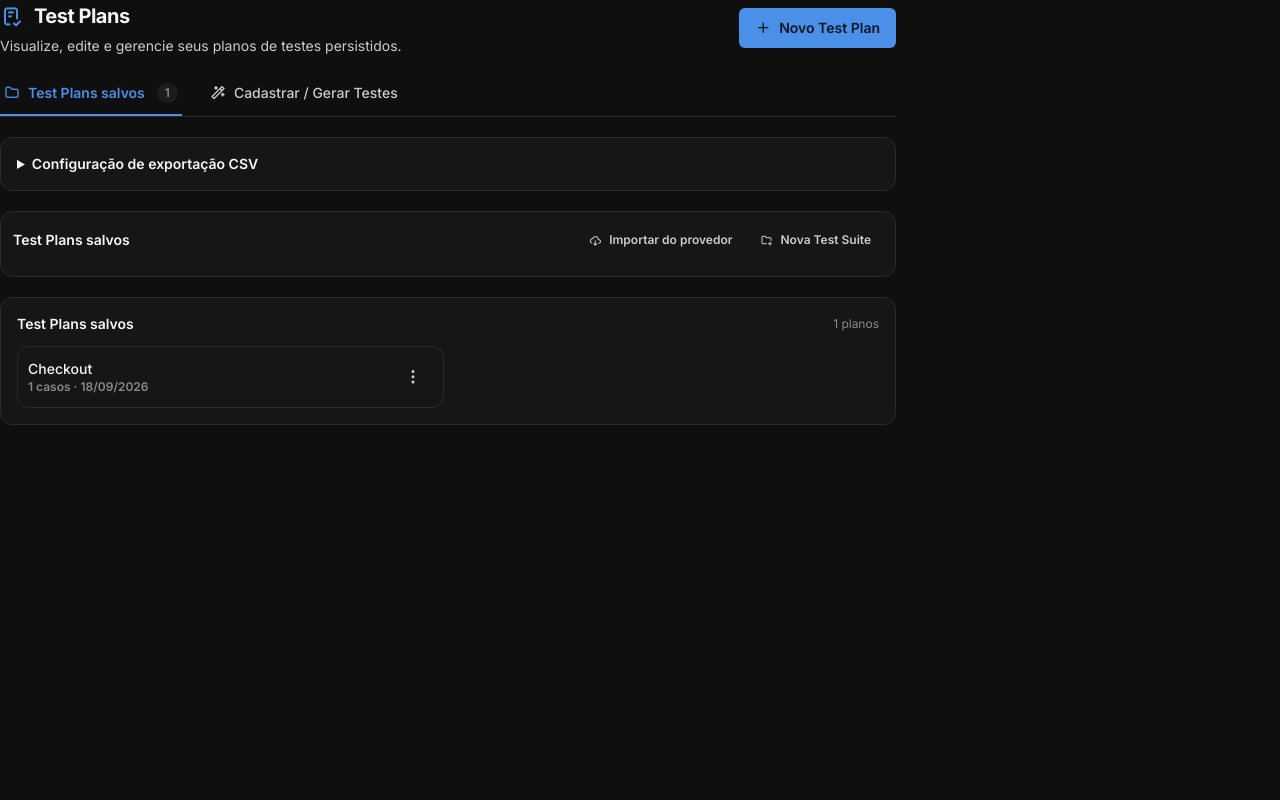
Scenario: TestPlansView case editing › adds a case and opens it for editing
The image size is (1280, 800).
Click the button with aria-label "Abrir Test Plan Checkout" at (60, 368), box left=28, top=359, right=393, bottom=395
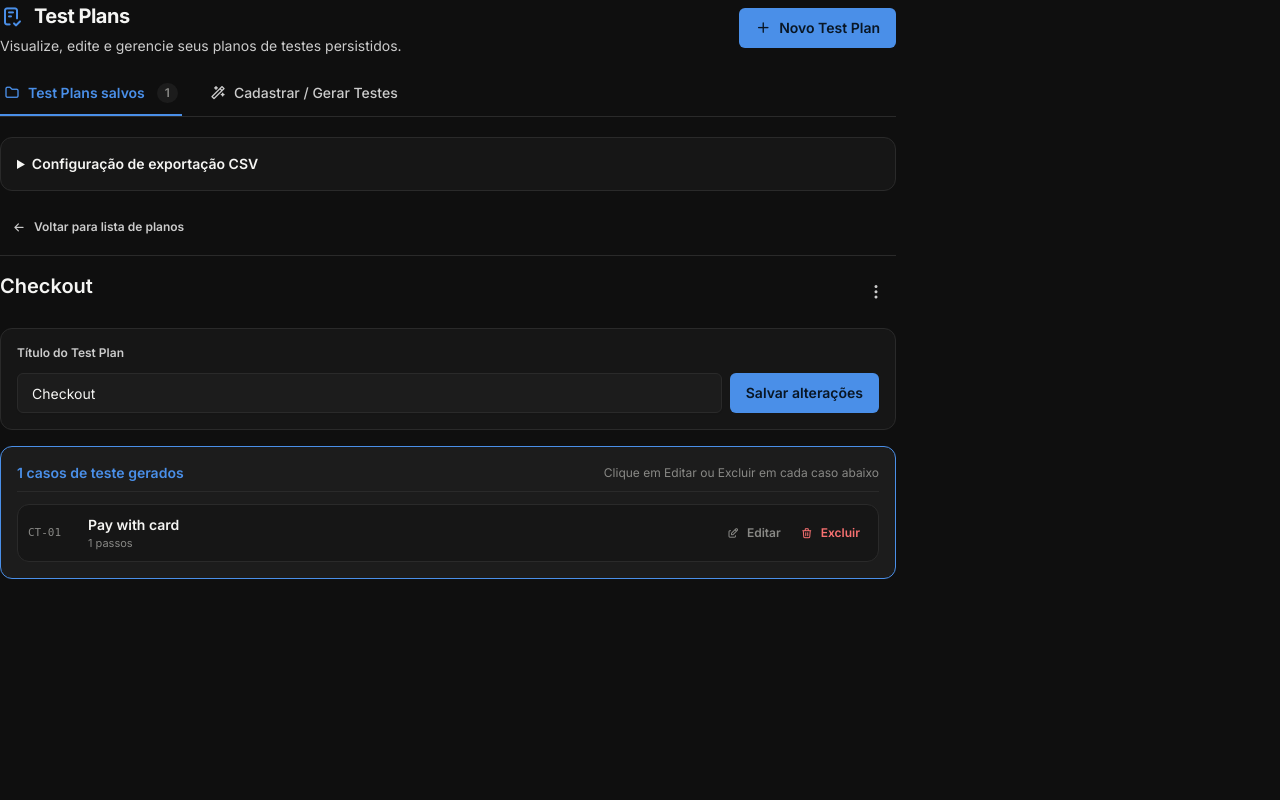
Click the button named "Ações" at (876, 292), box left=856, top=272, right=896, bottom=312
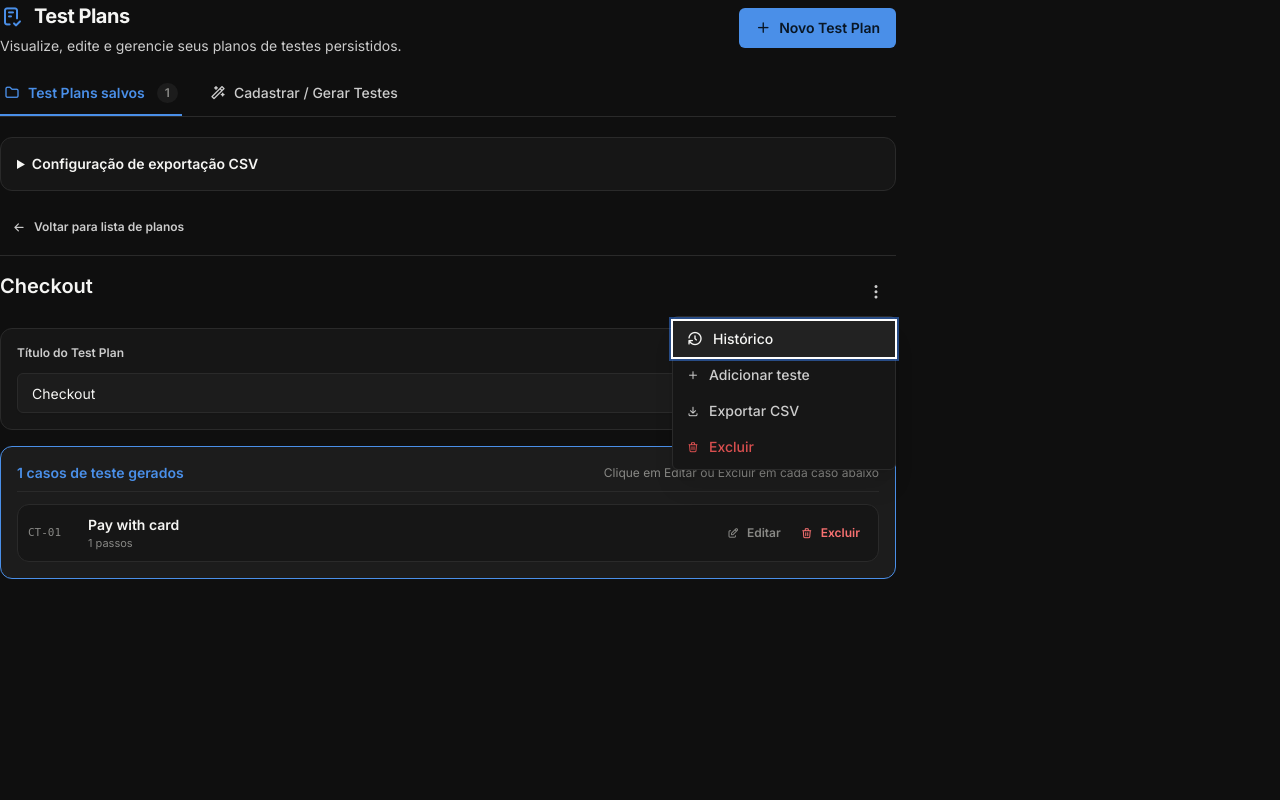
Click the button with test id "btn-add-test-case" at (784, 375), box left=673, top=357, right=895, bottom=393
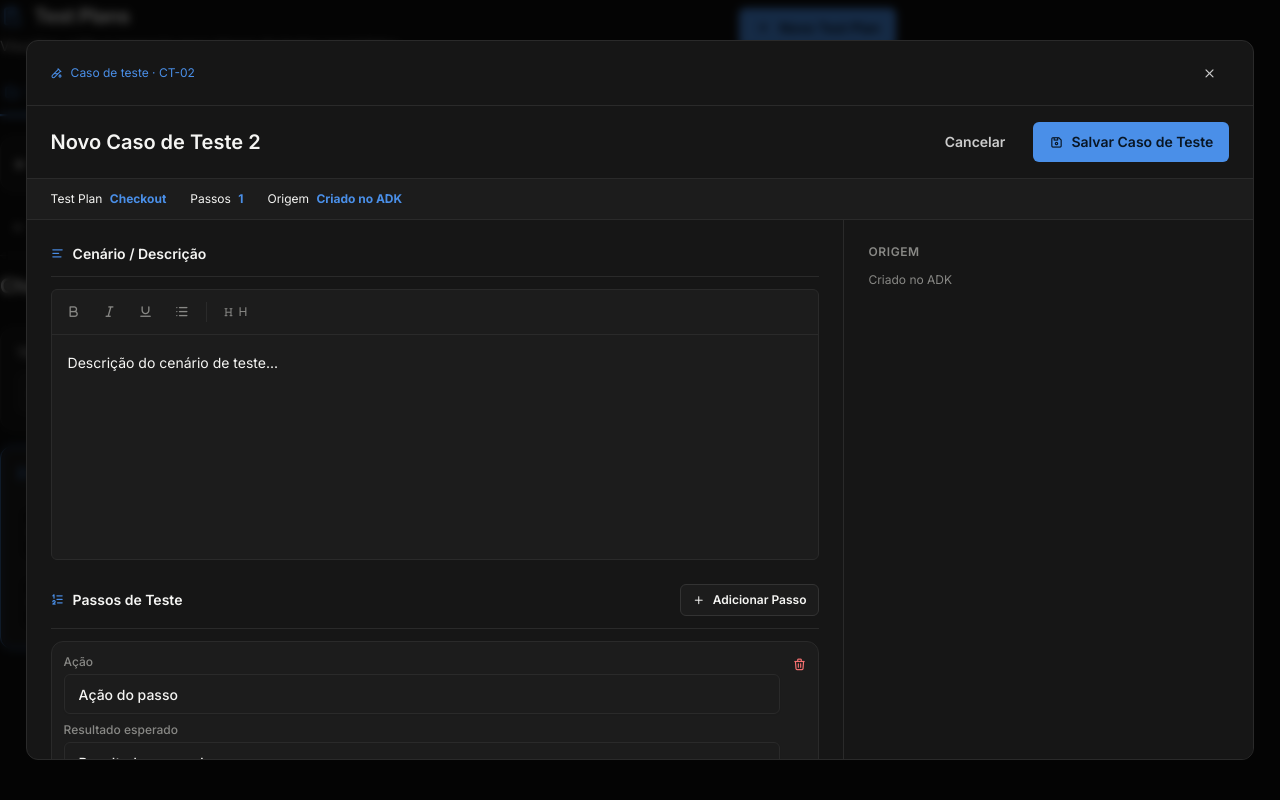
Now the element with test id "test-case-CT-02" is shown, box left=17, top=574, right=879, bottom=632
Now the field named "Título do caso de teste" is shown, box left=51, top=122, right=917, bottom=162
